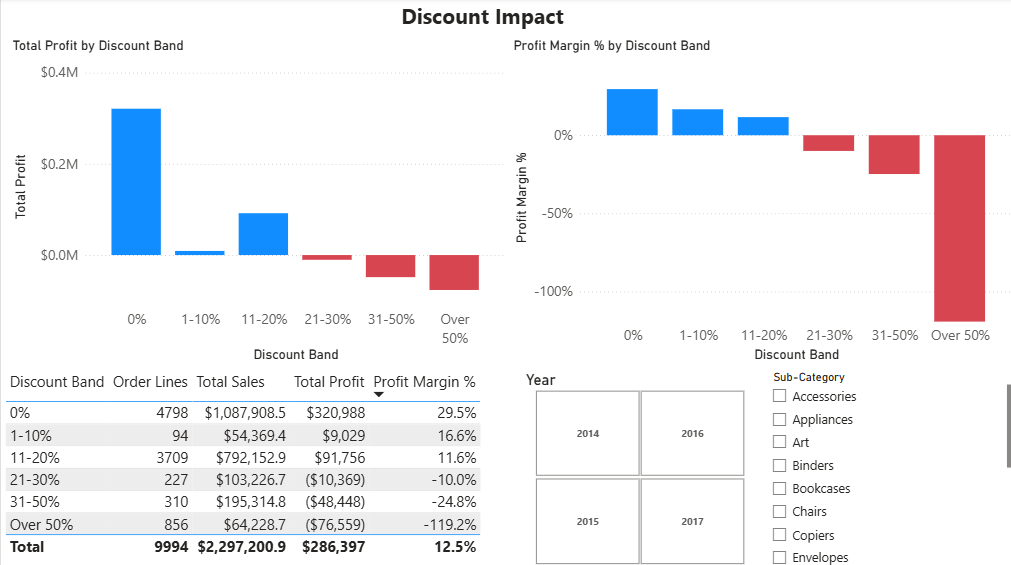

What the dashboard file says about the page in this screenshot:
{"tool":"powerbi","page":{"name":"Discounts","canvas":[1280,720],"ordinal":2},"visuals":[{"type":"clusteredColumnChart","fields":{"Category":["orders.Discount Band"],"Y":["orders.Total Profit"]},"box":[9.4,51,631.2,413.9],"z":0},{"type":"clusteredColumnChart","fields":{"Category":["orders.Discount Band"],"Y":["orders.Profit Margin %"]},"box":[640.6,51,638.7,413.9],"z":1000},{"type":"tableEx","fields":{"Values":["orders.Discount Band","orders.Order Lines","orders.Total Sales","orders.Total Profit","orders.Profit Margin %"]},"box":[0,464,648,256],"z":2000},{"type":"slicer","fields":{"Values":["Date.Year"]},"box":[648,464,312,256],"z":3000},{"type":"slicer","fields":{"Values":["orders.Sub-Category"]},"box":[960,464,320,256],"z":4000},{"type":"textbox","box":[440.3,0,612.3,51],"z":4001}]}

Visuals, with their boxes in screenshot pixels (x1, y1, x2, y2), scaled from the page's 1280x720 canvas onto the 1011x565 screenshot:
clusteredColumnChart - orders.Discount Band x orders.Total Profit: {"left": 7, "top": 40, "right": 506, "bottom": 365}
clusteredColumnChart - orders.Discount Band x orders.Profit Margin %: {"left": 506, "top": 40, "right": 1010, "bottom": 365}
tableEx - orders.Discount Band x orders.Order Lines: {"left": 0, "top": 364, "right": 512, "bottom": 564}
slicer - Date.Year: {"left": 512, "top": 364, "right": 758, "bottom": 564}
slicer - orders.Sub-Category: {"left": 758, "top": 364, "right": 1010, "bottom": 564}
textbox: {"left": 348, "top": 0, "right": 831, "bottom": 40}
